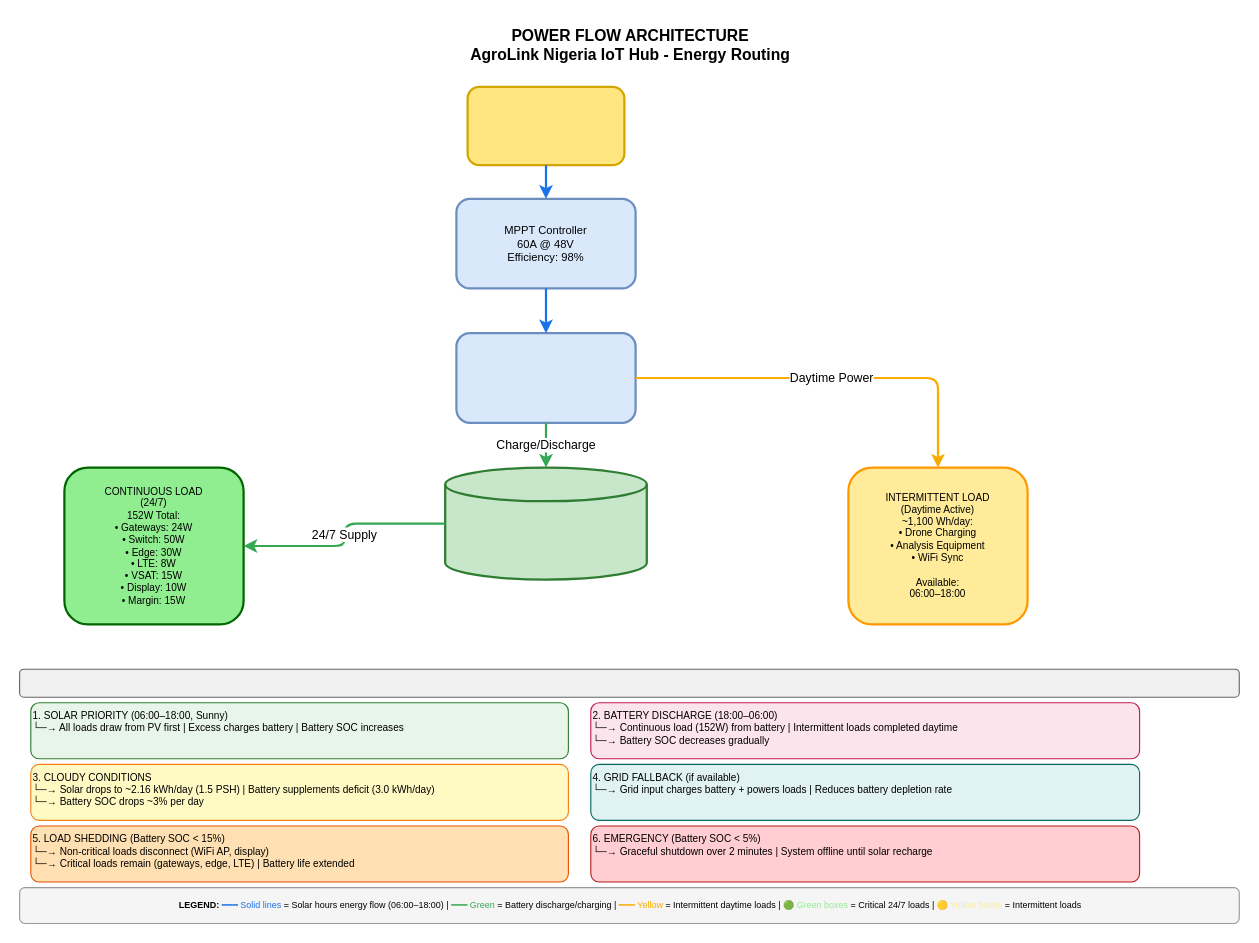
The diagram is 1259 pixels wide and 943 high, and some of its shapes have lost their labels. Each missing label, with the centre of its shape:
"BATTERY BANK 48V 300Ah LiFePO₄ Capacity: 14.4 kWh Usable: 11.52 kWh" goes at (545,523).
"Hybrid Inverter 5 kVA Growatt Efficiency: 95%" goes at (545,377).
"PRIORITY DISPATCH LOGIC (Inverter Decision Rules)" goes at (628,682).
"☀️ SOLAR ARRAY 1.8 kW PV" goes at (545,125).
